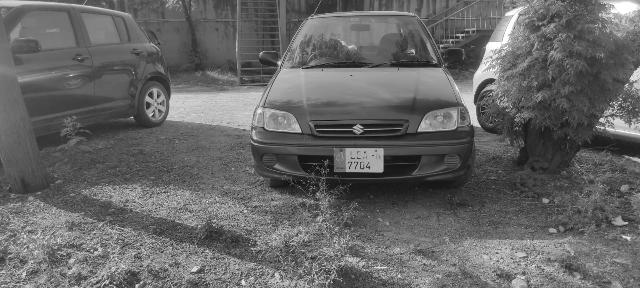Number: (346, 151, 371, 171)
